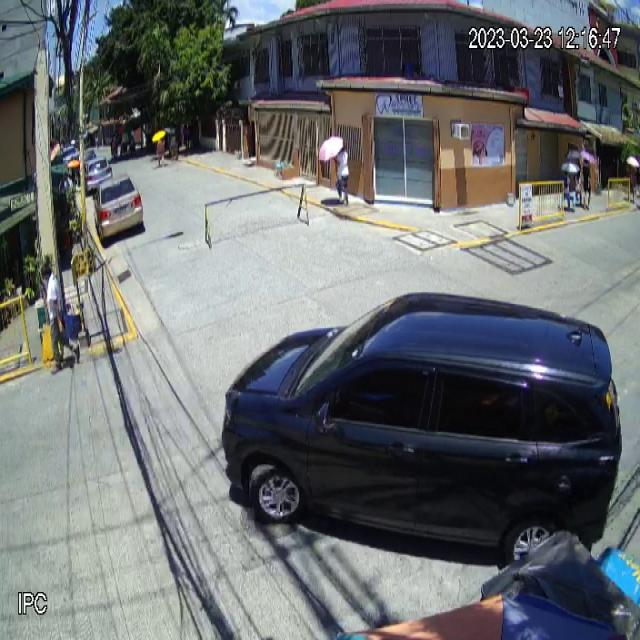Car: (220, 289, 624, 565)
